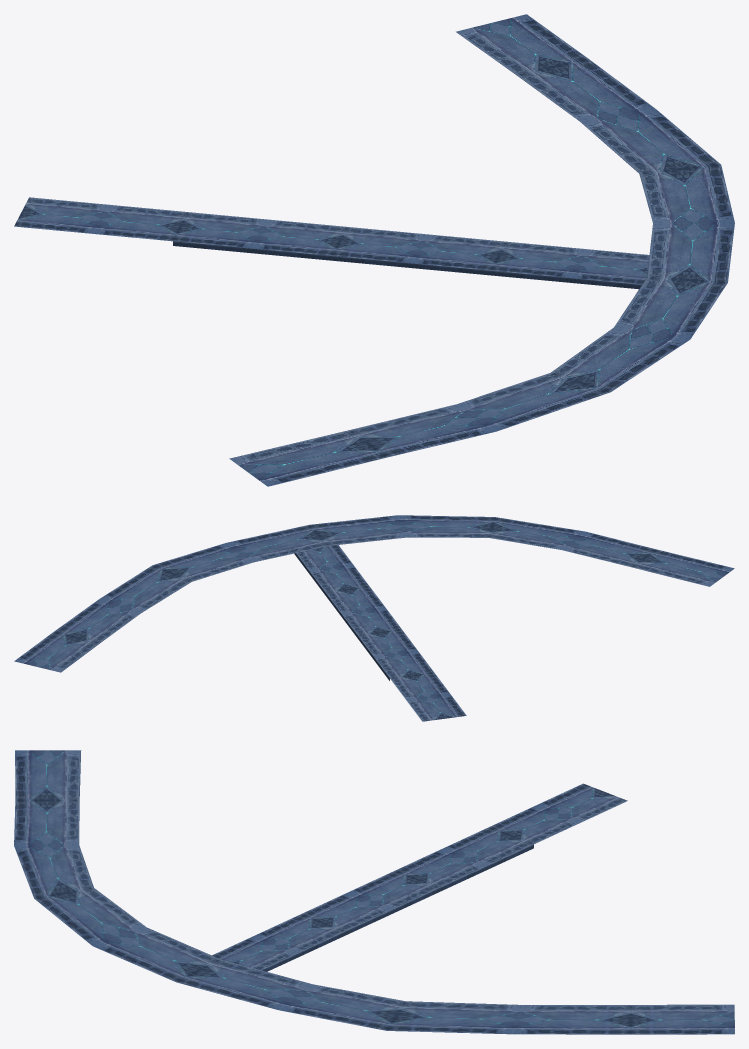
Rendered from fb_bingdongdixiamushi_tongdao01.FBX.
The picture shows the model from 3 angles, top to bottom: view 1: azimuth 30°, elevation 25°; view 2: azimuth 150°, elevation 25°; view 3: azimuth 270°, elevation 25°; orthographic projection. The views are drawn at different scales.
Visible parts, largest first — view 1: fb_bingdongdixiamushi_tongdao01; view 2: fb_bingdongdixiamushi_tongdao01; view 3: fb_bingdongdixiamushi_tongdao01.
Part boxes in pixels (x1,y1,x2,y2): fb_bingdongdixiamushi_tongdao01: [14, 14, 734, 486]; fb_bingdongdixiamushi_tongdao01: [14, 515, 734, 721]; fb_bingdongdixiamushi_tongdao01: [14, 750, 734, 1034].
Size of the model in its own units: 3845 by 30.16 by 4119.
